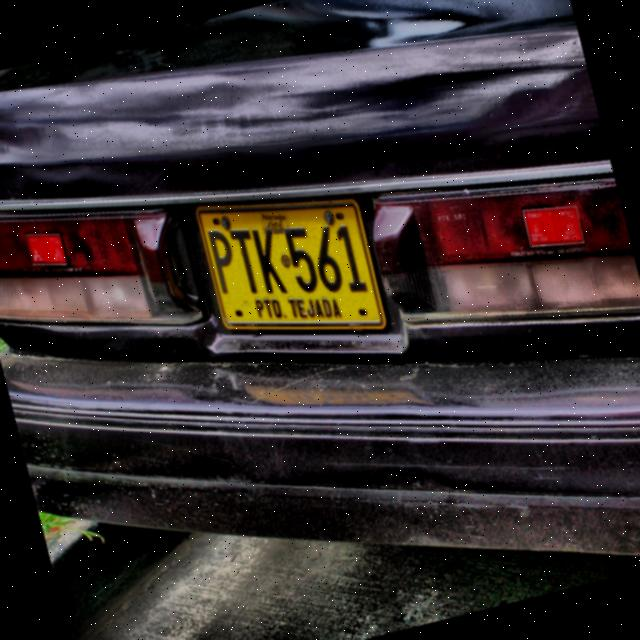plate: (196, 199, 385, 329)
